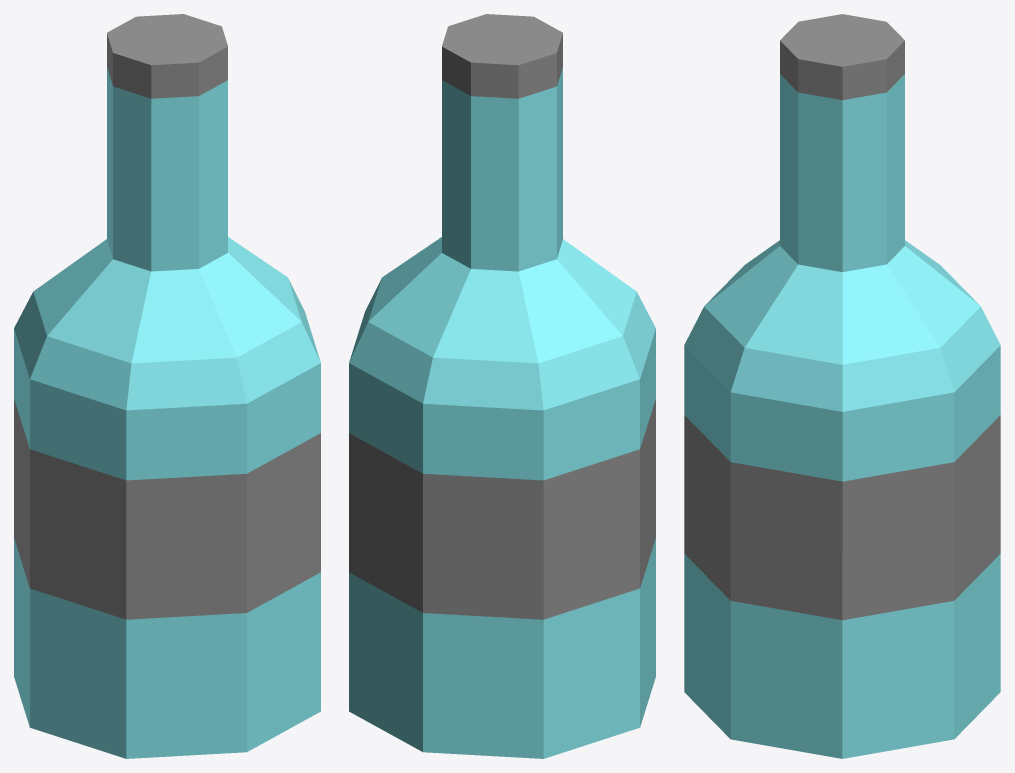
File: pandemonium_vodka_bottle.fbx
3 views of the same model, side by side, from view 1: azimuth 30°, elevation 25°; view 2: azimuth 150°, elevation 25°; view 3: azimuth 270°, elevation 25° (orthographic).
Visible parts, largest first — view 1: Cylinder.007; view 2: Cylinder.007; view 3: Cylinder.007.
Part boxes in pixels (x1=…): Cylinder.007: x1=14, y1=14, x2=320, y2=758; Cylinder.007: x1=349, y1=14, x2=655, y2=758; Cylinder.007: x1=684, y1=14, x2=1000, y2=758.
Bounding box in the file's own units: 27.13 × 61.65 × 27.13.
